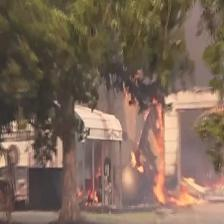fire: (79, 86, 215, 214)
